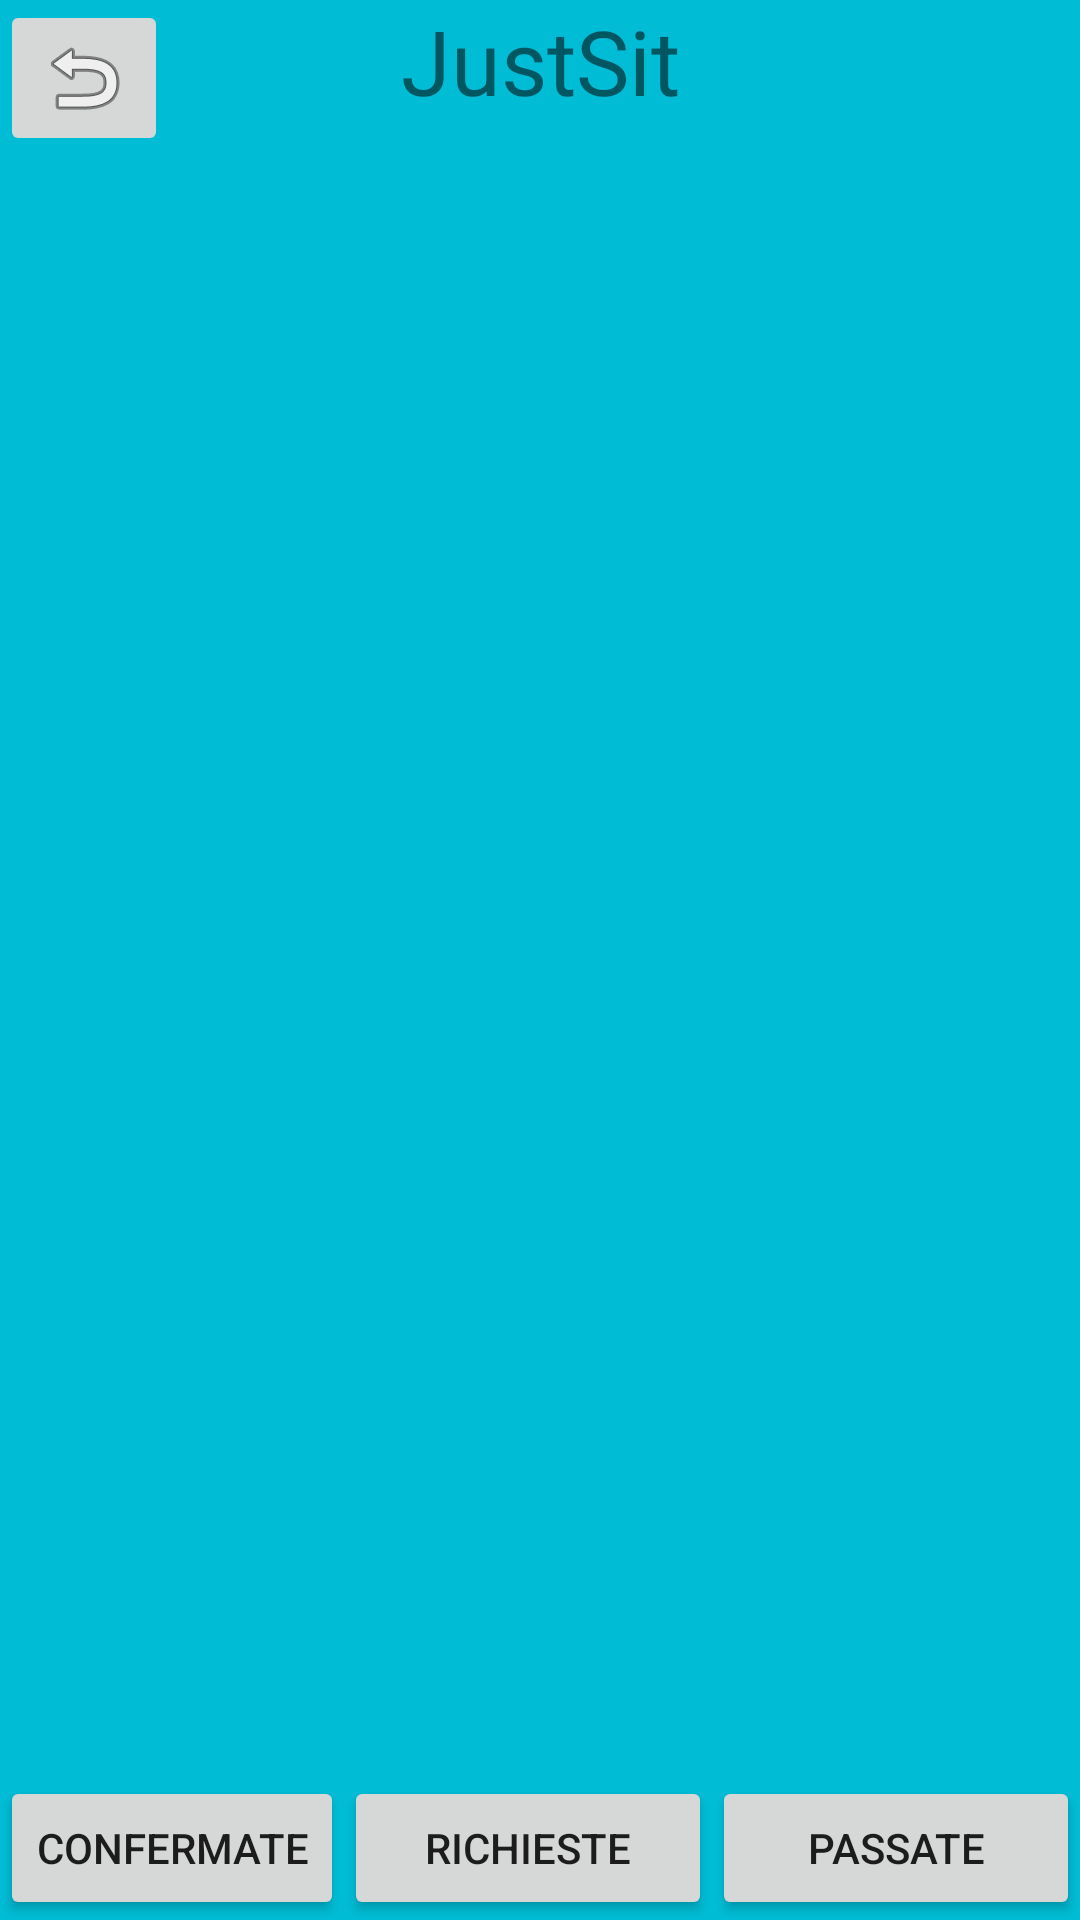

Named icons in this screenshot (1080x1920) and their centers, (x,y):
revert: (84,78)
